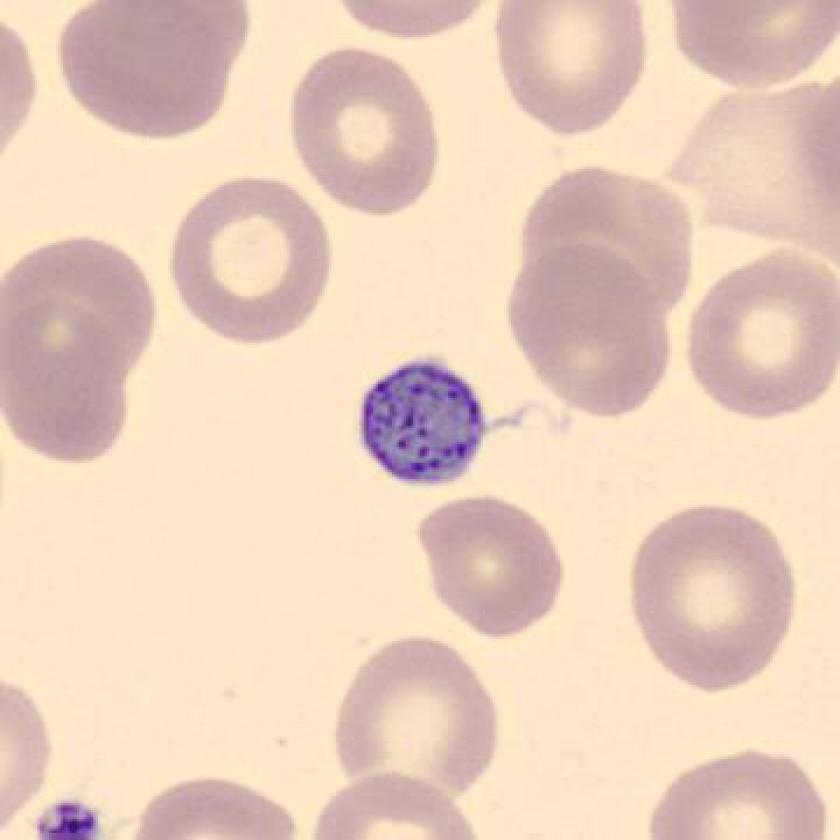platelets: (349, 355, 493, 494), (41, 790, 113, 840)
